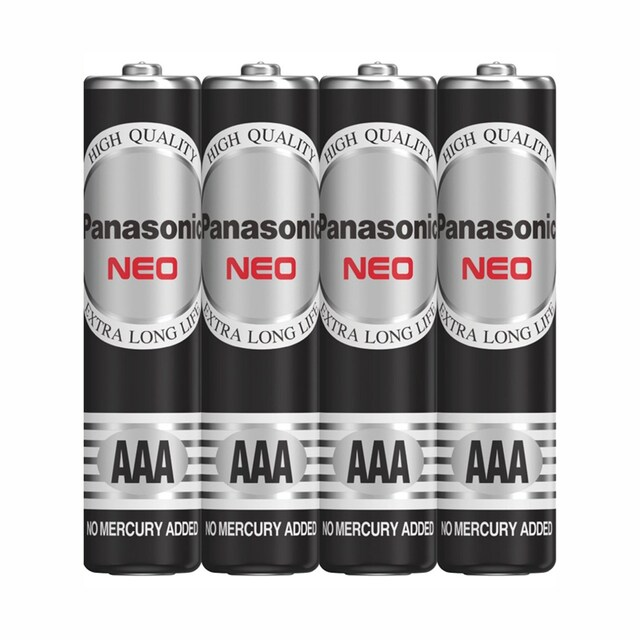Battery: (436, 58, 558, 575), (201, 62, 319, 577), (84, 61, 202, 576), (319, 61, 436, 578)
